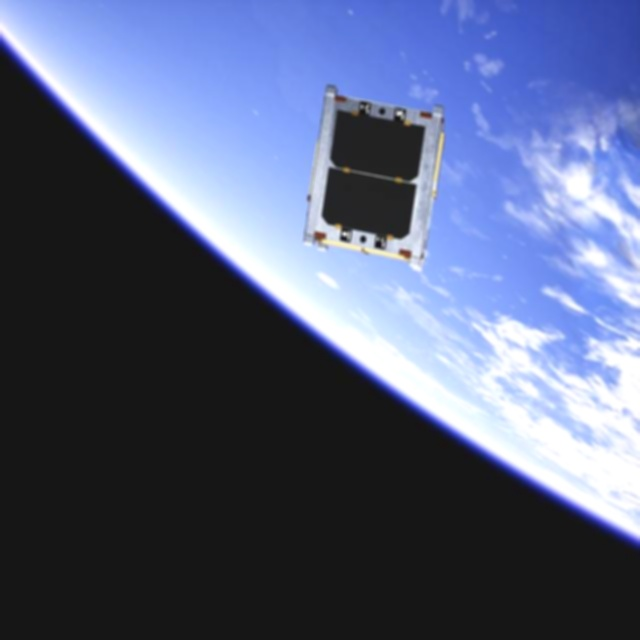satellite: (304, 83, 448, 265)
